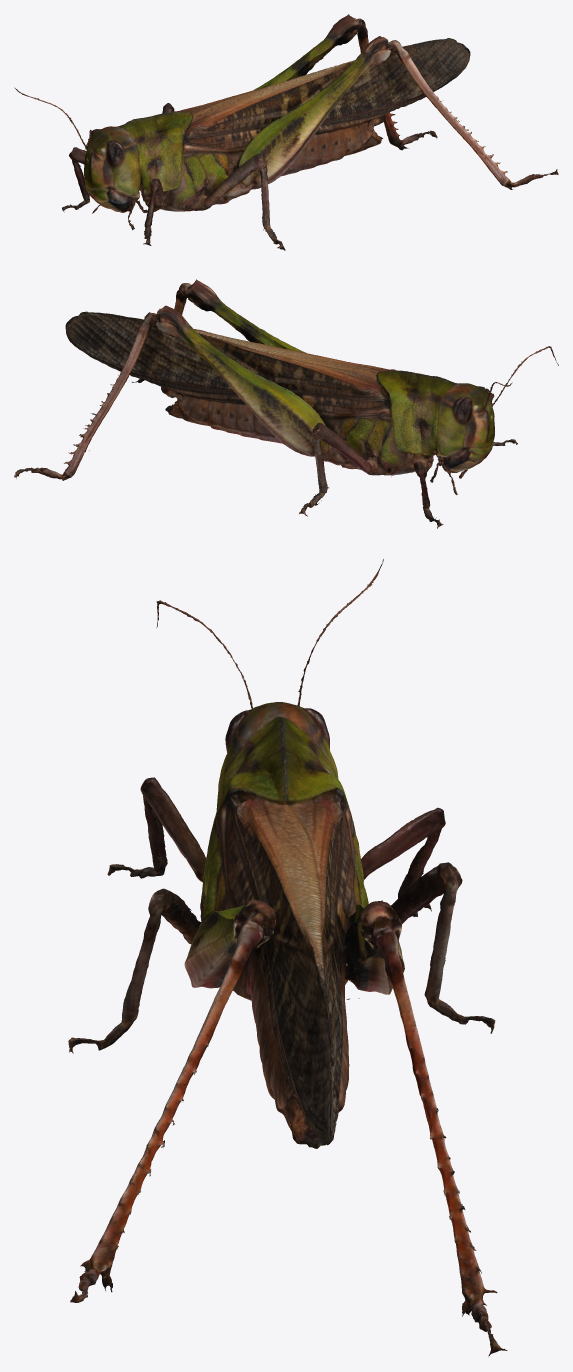
File: locust.glb
The picture shows the model from 3 angles, top to bottom: view 1: azimuth 30°, elevation 25°; view 2: azimuth 150°, elevation 25°; view 3: azimuth 270°, elevation 25°; orthographic projection. The views are drawn at different scales.
Parts seen in each view (by area): view 1: Object_6; view 2: Object_6; view 3: Object_6.
Part boxes in pixels (bbox=[...]): Object_6: bbox=[14, 14, 558, 250]; Object_6: bbox=[14, 279, 558, 528]; Object_6: bbox=[68, 559, 507, 1356].
Size of the model in its own units: 1 by 0.3695 by 0.4121.
Materials: 1 (1 with a texture image).
